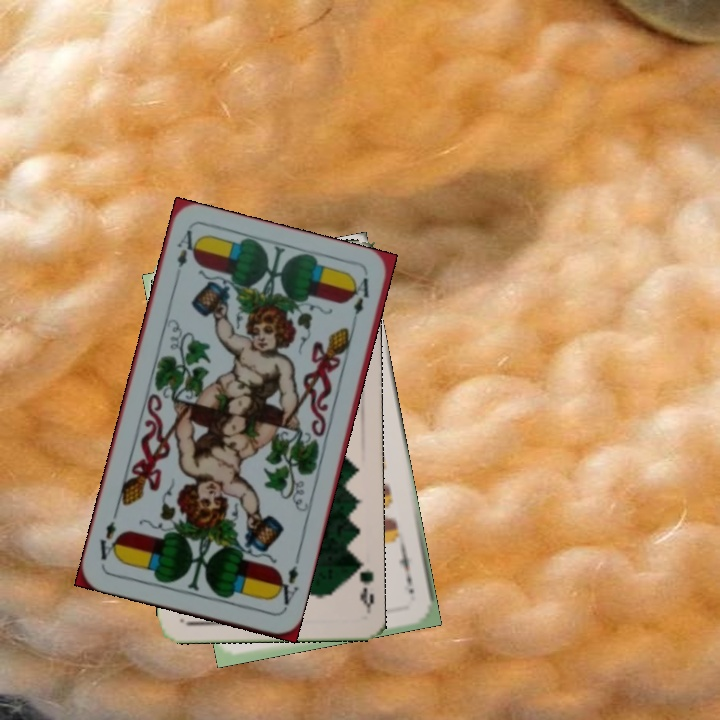E7: (394, 545, 417, 597)
EA: (271, 554, 302, 613), (171, 226, 201, 285)
G9: (349, 555, 377, 614)
